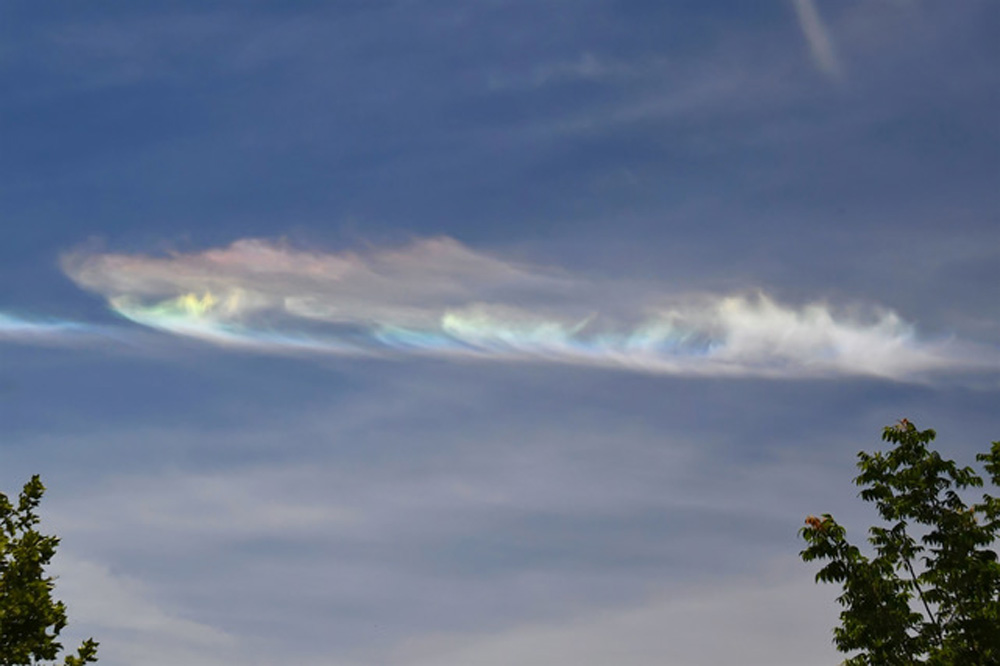Cirrus: (52, 153, 990, 412)
